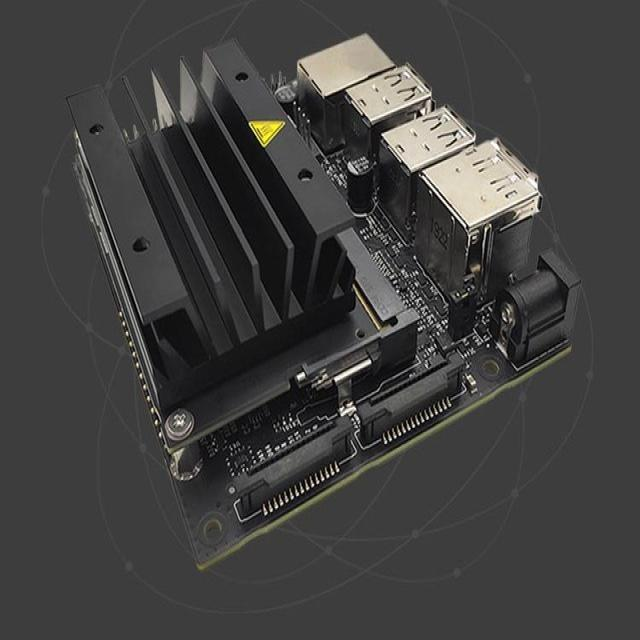Jetson Nano: (66, 31, 583, 568)
